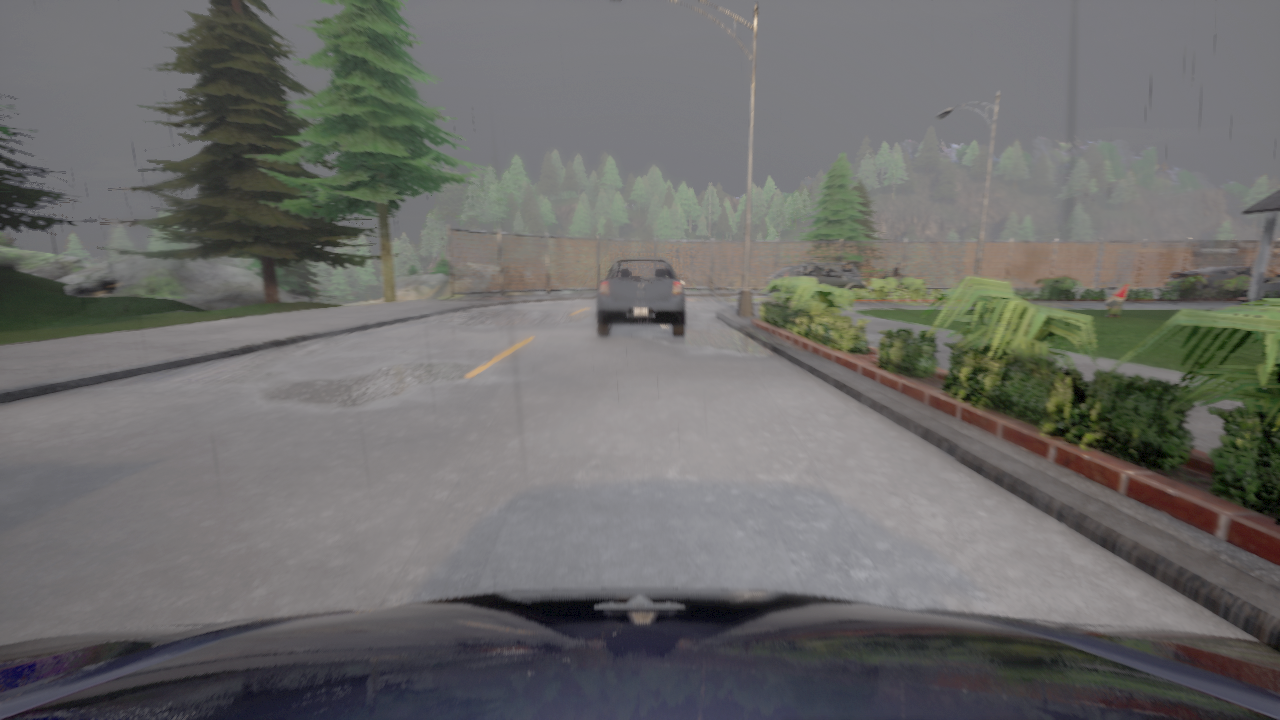cyclist: (0, 588, 1279, 719), (597, 258, 685, 337), (1169, 266, 1279, 297), (768, 264, 867, 297), (767, 261, 860, 284)
pedestrian: (889, 262, 902, 292)
